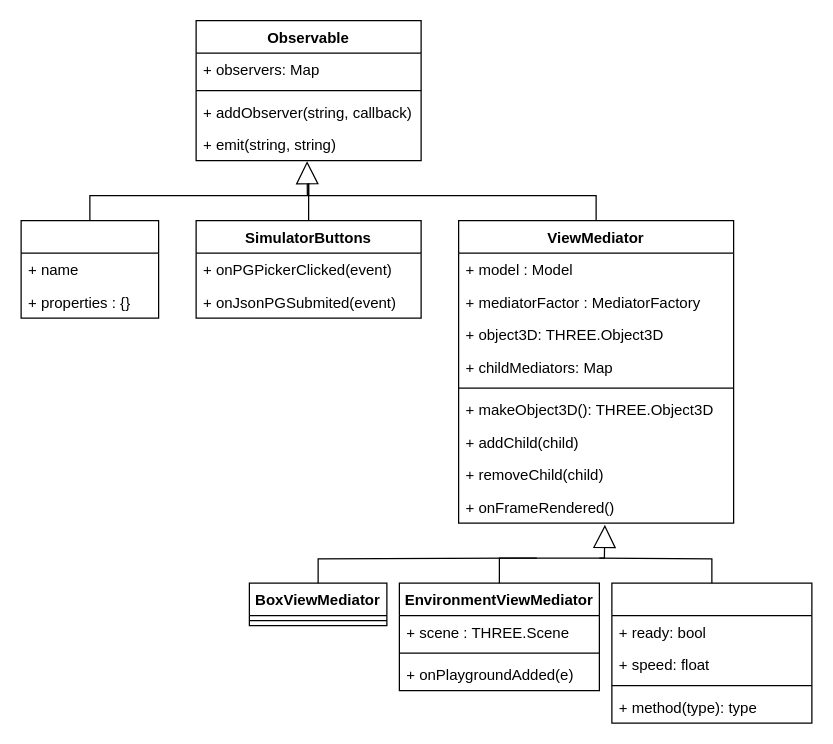
The diagram is 833 pixels wide and 744 high, and some of its shapes have lost their labels. The shapes that lost their labels are listed below. From the top down, each one's box as (x1, y1, x2, y2) in pixels, then its label:
(20, 219, 159, 318): Model
(611, 582, 812, 723): ThymioViewMediator
